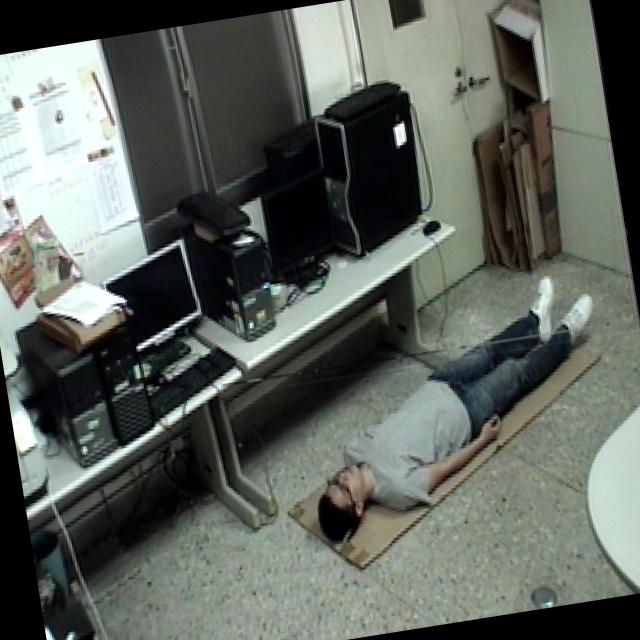lie: (268, 257, 628, 560)
